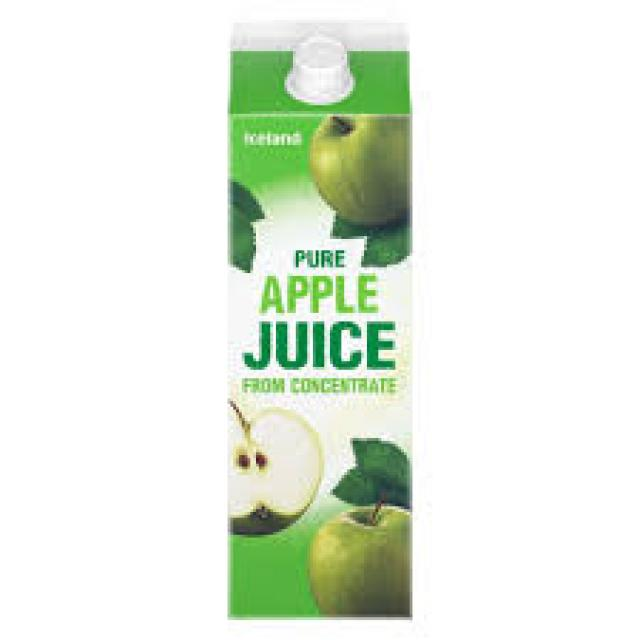non_white_jug: (208, 14, 432, 623)
